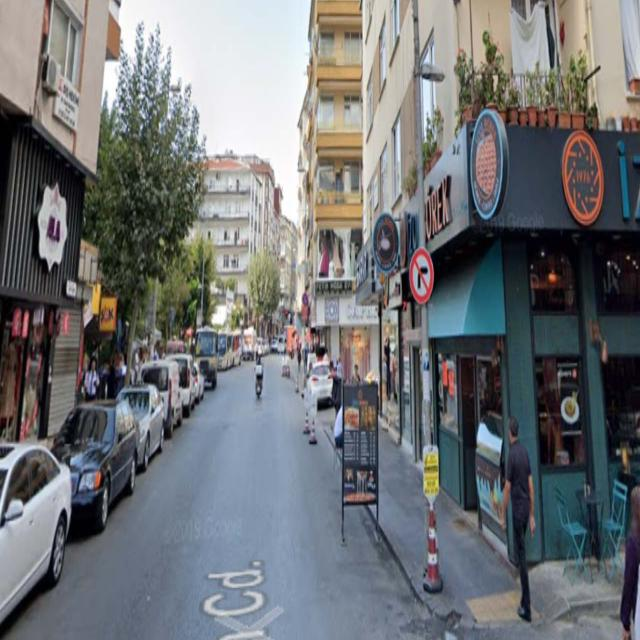sagadonulmez: (408, 247, 437, 309)
